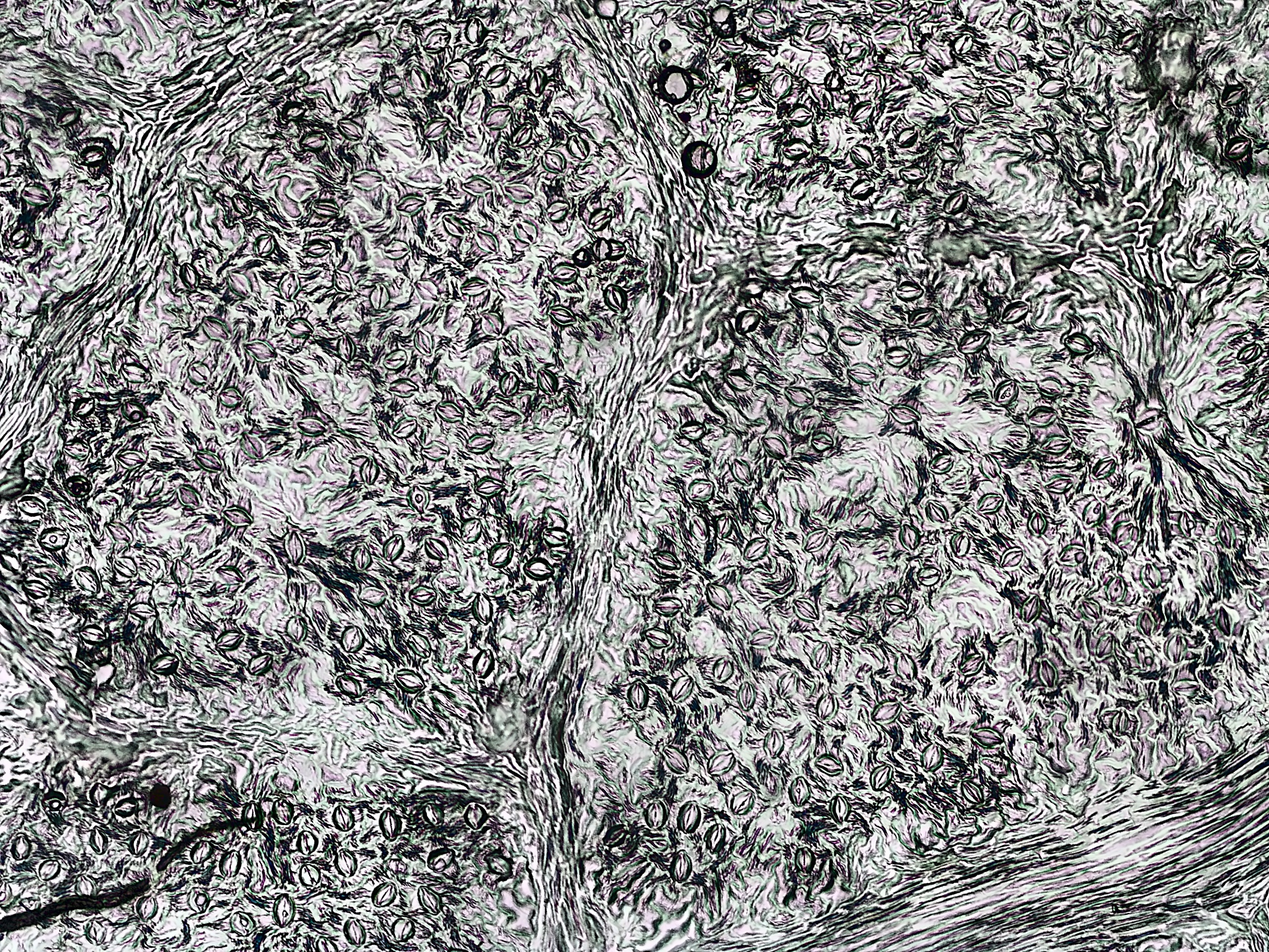stomata: (1135, 406, 1167, 435), (378, 807, 404, 842), (761, 728, 787, 760), (788, 286, 824, 309), (460, 173, 494, 197), (284, 531, 308, 565), (72, 563, 99, 593), (200, 315, 231, 341), (1084, 13, 1111, 42), (940, 187, 969, 214), (270, 893, 293, 927), (22, 182, 53, 207), (245, 338, 278, 361), (670, 850, 693, 883), (705, 583, 732, 611), (170, 557, 195, 587), (830, 794, 855, 824), (1078, 159, 1108, 184), (524, 557, 555, 581), (471, 594, 495, 625), (241, 800, 265, 831), (848, 361, 879, 385), (1230, 246, 1261, 270), (787, 776, 810, 808), (1002, 298, 1029, 325), (406, 486, 432, 514), (340, 625, 366, 653), (890, 402, 923, 424), (625, 681, 650, 710), (919, 741, 943, 771), (812, 754, 846, 775), (38, 527, 69, 550), (357, 453, 380, 484), (644, 798, 667, 829), (895, 651, 917, 683), (601, 285, 627, 312), (962, 327, 988, 354), (275, 271, 300, 299), (662, 748, 690, 773), (971, 728, 1006, 748), (952, 104, 980, 129), (795, 845, 819, 874), (1043, 37, 1073, 60), (724, 368, 755, 390), (1082, 110, 1116, 130), (1167, 631, 1187, 665), (463, 803, 488, 830), (761, 435, 788, 460), (869, 766, 894, 793), (803, 526, 828, 553), (121, 362, 153, 383), (537, 367, 561, 395), (394, 669, 426, 690), (1032, 128, 1060, 152), (985, 86, 1017, 107), (1041, 434, 1073, 455), (421, 29, 450, 52), (506, 179, 535, 202), (437, 213, 466, 236), (381, 534, 404, 563), (472, 649, 495, 678), (17, 494, 47, 516), (871, 701, 901, 723), (812, 641, 834, 671), (1035, 76, 1068, 96), (1215, 605, 1236, 636), (336, 672, 361, 698), (350, 545, 375, 571), (407, 631, 432, 657), (814, 695, 839, 721), (795, 597, 820, 623), (437, 400, 464, 424), (994, 379, 1018, 406), (284, 615, 307, 643), (220, 850, 243, 878), (458, 276, 490, 296), (1043, 474, 1075, 494), (1, 111, 23, 140), (1065, 333, 1094, 355), (465, 431, 495, 452), (873, 24, 906, 43), (270, 800, 295, 825), (425, 536, 449, 562), (429, 846, 453, 872), (1008, 8, 1034, 32), (485, 106, 512, 129), (408, 65, 431, 92), (216, 628, 243, 651), (296, 416, 327, 436), (652, 597, 683, 617), (54, 106, 82, 128), (800, 333, 828, 355), (837, 324, 865, 346), (688, 515, 710, 543), (279, 101, 308, 122), (64, 476, 93, 497), (89, 826, 110, 855), (336, 848, 357, 877), (1105, 575, 1126, 604), (1142, 561, 1163, 590), (474, 477, 506, 496), (680, 801, 699, 833), (513, 219, 537, 244), (785, 386, 815, 406), (707, 823, 727, 853), (1028, 405, 1058, 425), (1038, 659, 1058, 689), (475, 230, 501, 253), (488, 542, 511, 568), (332, 805, 355, 831), (373, 881, 396, 907), (708, 752, 734, 775), (242, 432, 264, 459), (194, 452, 225, 471), (222, 507, 253, 526), (414, 326, 433, 357), (357, 587, 388, 606), (881, 594, 912, 613), (63, 439, 91, 460), (419, 886, 440, 914), (787, 104, 815, 125), (678, 420, 706, 441), (688, 480, 716, 501), (298, 131, 327, 151), (898, 163, 927, 183), (424, 115, 448, 139), (541, 149, 565, 173), (296, 863, 320, 887), (735, 310, 759, 334), (227, 272, 252, 295), (995, 48, 1018, 73), (729, 460, 752, 485), (885, 343, 910, 366), (1094, 455, 1117, 480), (413, 278, 439, 300), (85, 920, 107, 946), (910, 307, 936, 329), (1059, 544, 1085, 566), (548, 306, 578, 325), (447, 60, 474, 81), (551, 263, 578, 284), (461, 516, 482, 543), (392, 916, 413, 943), (388, 379, 421, 396), (527, 69, 547, 97), (151, 655, 179, 675), (138, 895, 158, 923), (736, 682, 756, 710), (775, 671, 795, 699), (643, 627, 674, 645), (565, 135, 588, 159), (670, 677, 693, 701), (851, 508, 874, 532), (78, 147, 107, 166), (312, 200, 341, 219), (286, 318, 315, 337), (422, 441, 451, 460), (216, 565, 245, 584), (79, 626, 108, 645), (782, 141, 811, 160), (653, 550, 682, 569), (748, 630, 777, 649), (485, 63, 510, 85), (805, 20, 830, 42), (713, 514, 734, 540), (977, 493, 1003, 514), (1217, 521, 1238, 547), (351, 172, 385, 188), (465, 17, 485, 44), (396, 196, 426, 214), (409, 586, 436, 606), (346, 915, 364, 945), (1023, 594, 1041, 624), (117, 449, 145, 468), (1110, 707, 1129, 735), (1227, 135, 1250, 158), (926, 500, 949, 523), (588, 209, 612, 231), (248, 653, 272, 675), (187, 889, 211, 911), (744, 539, 768, 561), (605, 823, 627, 847), (188, 841, 213, 862), (851, 178, 876, 199), (1038, 376, 1063, 397), (1085, 498, 1103, 527), (337, 119, 363, 139), (106, 523, 132, 543), (298, 829, 318, 855), (899, 524, 919, 550), (1135, 610, 1155, 636), (383, 238, 410, 257), (499, 371, 518, 398), (713, 656, 732, 683), (393, 416, 416, 438), (230, 913, 253, 935), (852, 144, 874, 167), (1001, 547, 1024, 569), (333, 269, 354, 293), (22, 579, 50, 597), (130, 601, 158, 619), (89, 782, 110, 806), (1238, 343, 1262, 364), (960, 654, 984, 675), (369, 285, 389, 310), (218, 387, 243, 407), (545, 525, 570, 545), (751, 8, 776, 28), (953, 32, 973, 57), (963, 778, 983, 803), (231, 193, 253, 215), (605, 238, 627, 260), (381, 76, 404, 97), (254, 233, 275, 256), (425, 802, 446, 825), (730, 793, 753, 814), (122, 400, 146, 420), (898, 280, 922, 300), (930, 453, 954, 473), (337, 333, 354, 361), (1180, 511, 1197, 539), (846, 615, 872, 633), (981, 453, 999, 479), (178, 485, 200, 506), (902, 51, 924, 72), (1121, 28, 1142, 50), (1224, 84, 1245, 106), (482, 310, 502, 333), (114, 557, 137, 577), (78, 875, 98, 898), (1172, 679, 1199, 696), (129, 832, 148, 856), (735, 83, 759, 102), (916, 567, 940, 586), (1029, 511, 1047, 536), (870, 0, 902, 14), (952, 530, 968, 558), (1247, 588, 1264, 614), (1114, 522, 1134, 544), (315, 934, 339, 952), (751, 503, 775, 521), (14, 834, 31, 859), (772, 73, 789, 98), (73, 396, 93, 417), (687, 7, 708, 27), (850, 102, 871, 122), (897, 127, 917, 148), (141, 476, 163, 495), (305, 240, 331, 256), (180, 264, 198, 287), (936, 144, 959, 162), (1094, 633, 1112, 656), (512, 122, 529, 146), (383, 351, 407, 368), (189, 363, 209, 383), (1083, 599, 1102, 620), (40, 858, 58, 880), (546, 202, 568, 219), (115, 798, 137, 815)
